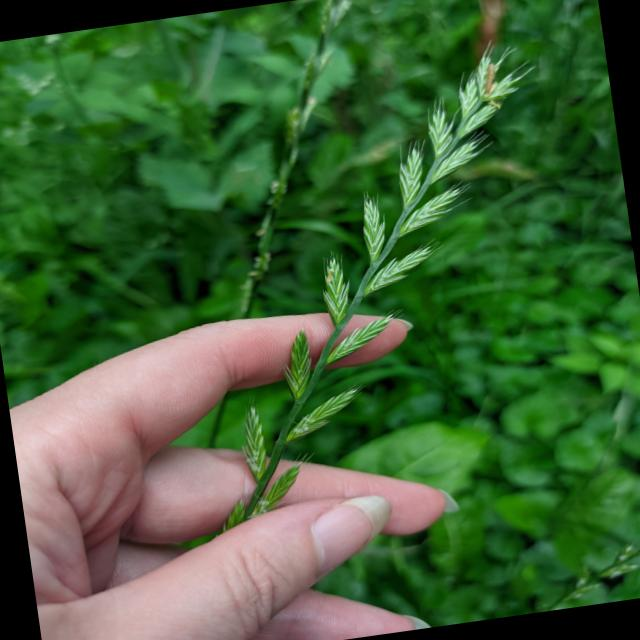Lolium: (125, 35, 598, 546)
